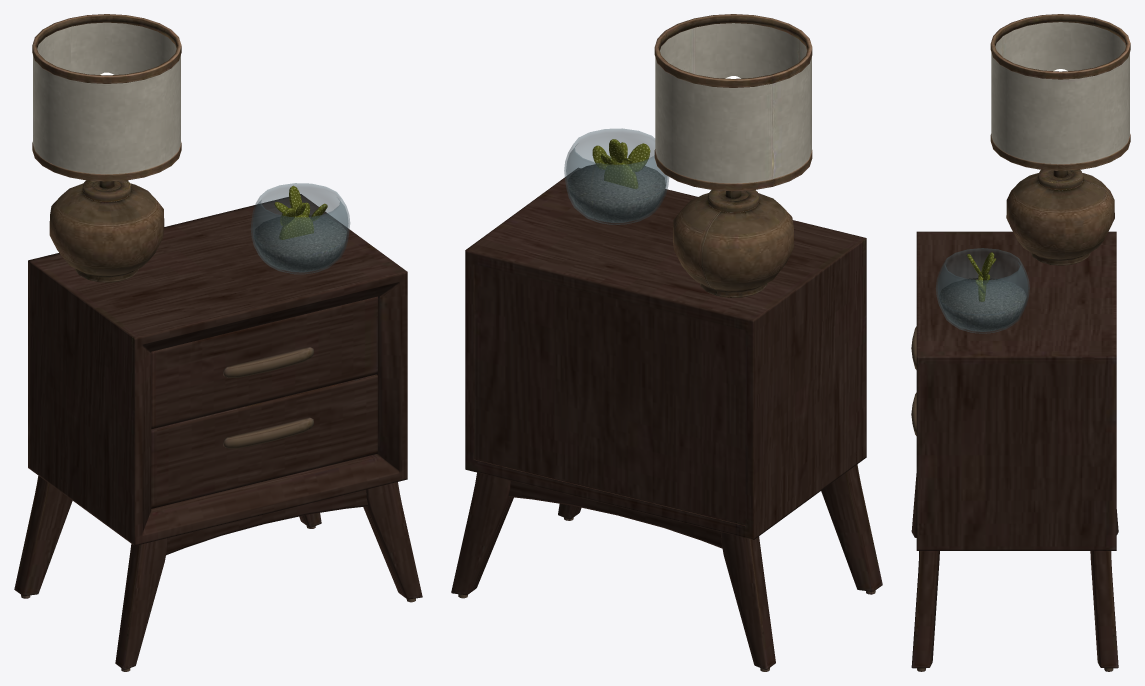
Rendered from nightstand.glb.
3 views of the same model, side by side, from view 1: azimuth 30°, elevation 25°; view 2: azimuth 150°, elevation 25°; view 3: azimuth 270°, elevation 25° (orthographic). The views are drawn at different scales.
Parts seen in each view (by area): view 1: Nightstand, Lamp, Vase; view 2: Nightstand, Lamp, Vase; view 3: Nightstand, Lamp, Vase.
Part boxes in pixels (x1,y1,x2,y2): Nightstand: (14, 194, 422, 671); Lamp: (32, 14, 181, 282); Vase: (251, 183, 349, 273); Nightstand: (451, 168, 882, 671); Lamp: (654, 14, 812, 297); Vase: (564, 128, 668, 224); Nightstand: (911, 231, 1118, 671); Lamp: (990, 14, 1130, 265); Vase: (936, 248, 1029, 333).
Size of the model in its own units: 56.01 by 98.86 by 37.68.
Materials: 4 (4 with a texture image).
